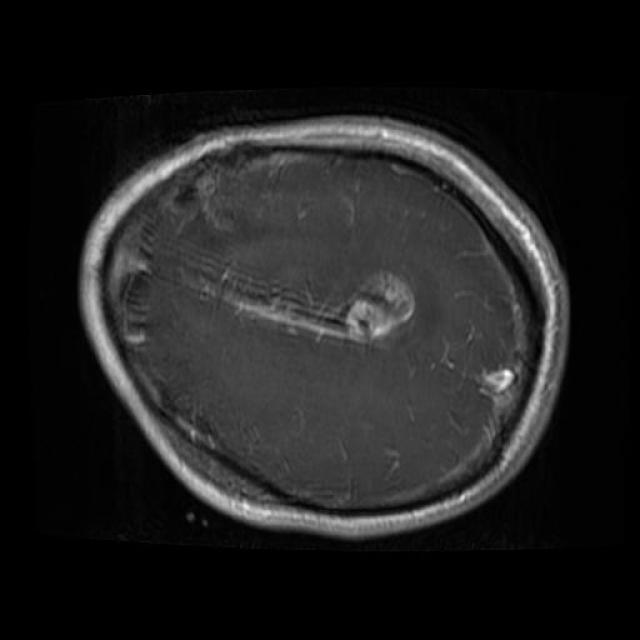Glioma: (340, 272, 414, 341)
